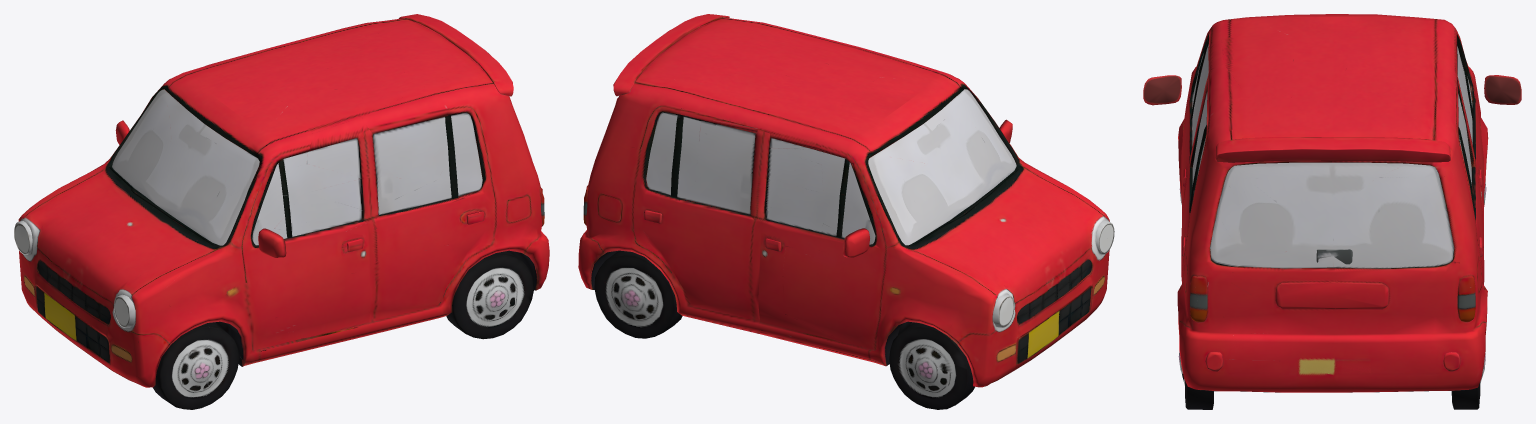
The model's file is kei_car.glb.
3 renders of one model, left to right at view 1: azimuth 30°, elevation 25°; view 2: azimuth 150°, elevation 25°; view 3: azimuth 270°, elevation 25°, orthographic. The views are drawn at different scales.
Visible parts, largest first — view 1: geometry_0; view 2: geometry_0; view 3: geometry_0.
Part boxes in pixels (bbox=[...]): geometry_0: bbox=[14, 14, 549, 409]; geometry_0: bbox=[578, 14, 1114, 409]; geometry_0: bbox=[1143, 14, 1521, 409].
Bounding box in the file's own units: 1 × 0.5567 × 0.6743.
1 material, 1 textured.
